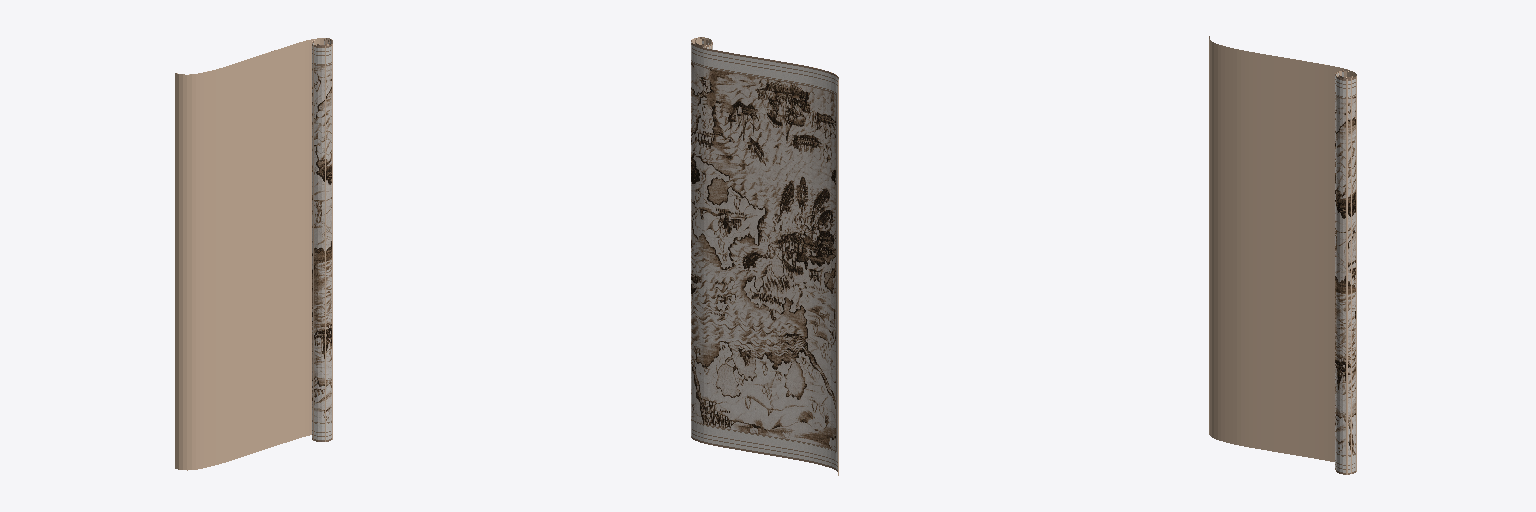
3 views of the same model, side by side, from view 1: azimuth 30°, elevation 25°; view 2: azimuth 150°, elevation 25°; view 3: azimuth 330°, elevation 25° (orthographic).
Parts seen in each view (by area): view 1: Object__0; view 2: Object__0; view 3: Object__0.
Boxes of the visible parts, box(x1,y1,x2,y2) form: Object__0: box(175, 38, 332, 470); Object__0: box(691, 37, 838, 475); Object__0: box(1209, 36, 1356, 474).
Size of the model in its own units: 0.4083 by 1.02 by 0.0507.
Materials: 2 (1 with a texture image).